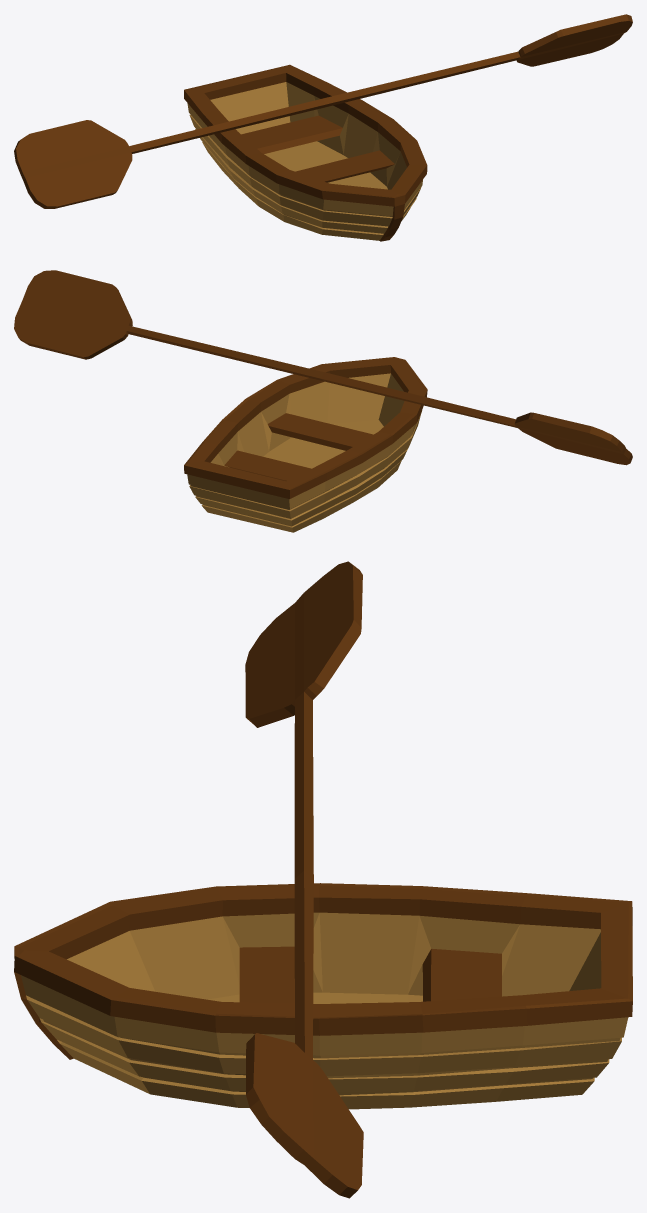
File: boat.glb
3 views of the same model, one above another, from view 1: azimuth 30°, elevation 25°; view 2: azimuth 150°, elevation 25°; view 3: azimuth 270°, elevation 25° (orthographic). The views are drawn at different scales.
Visible parts, largest first — view 1: Boat, Oar; view 2: Boat, Oar; view 3: Boat, Oar.
Part boxes in pixels (left/top/right/bottom): Boat: left=184, top=64, right=427, bottom=241; Oar: left=14, top=14, right=632, bottom=208; Boat: left=184, top=357, right=427, bottom=532; Oar: left=14, top=270, right=632, bottom=465; Boat: left=14, top=883, right=632, bottom=1109; Oar: left=245, top=561, right=363, bottom=1198.
Size of the model in its own units: 17.01 by 3.27 by 7.99.
